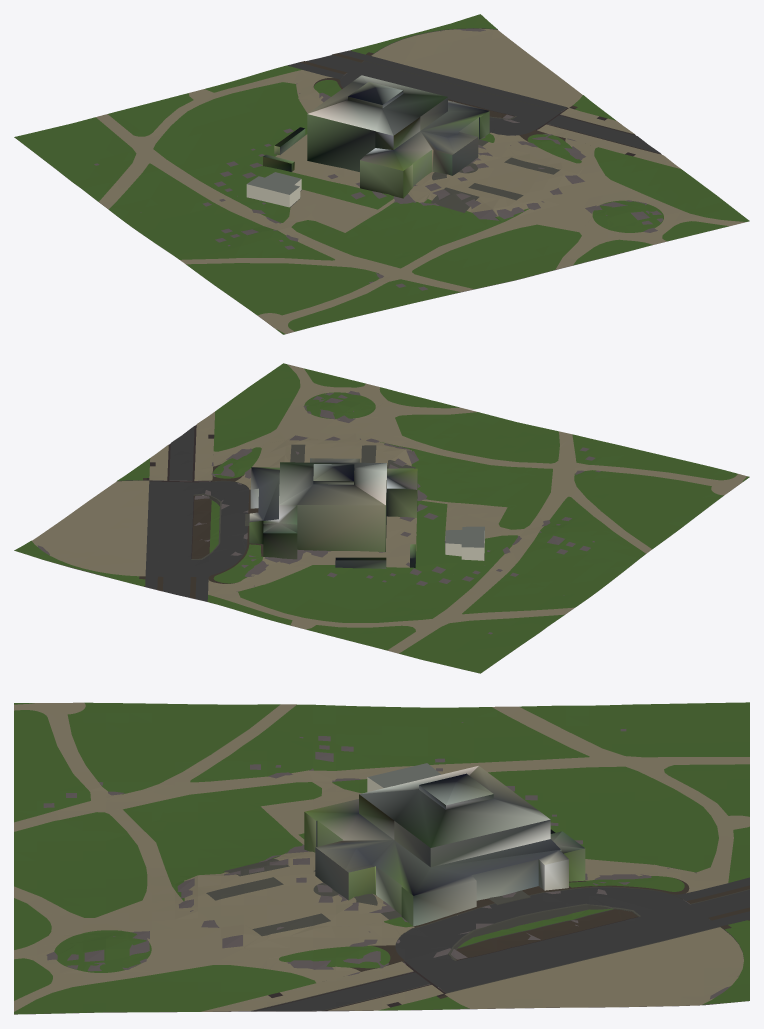
3 views of the same model, one above another, from view 1: azimuth 30°, elevation 25°; view 2: azimuth 150°, elevation 25°; view 3: azimuth 270°, elevation 25° (orthographic). The views are drawn at different scales.
Visible parts, largest first — view 1: c_p01_p10; view 2: c_p01_p10; view 3: c_p01_p10.
Part boxes in pixels (left/top/right/bottom): c_p01_p10: left=14, top=14, right=749, bottom=334; c_p01_p10: left=14, top=363, right=749, bottom=673; c_p01_p10: left=14, top=702, right=749, bottom=1014.
Bounding box in the file's own units: 128 × 18.46 × 128.
